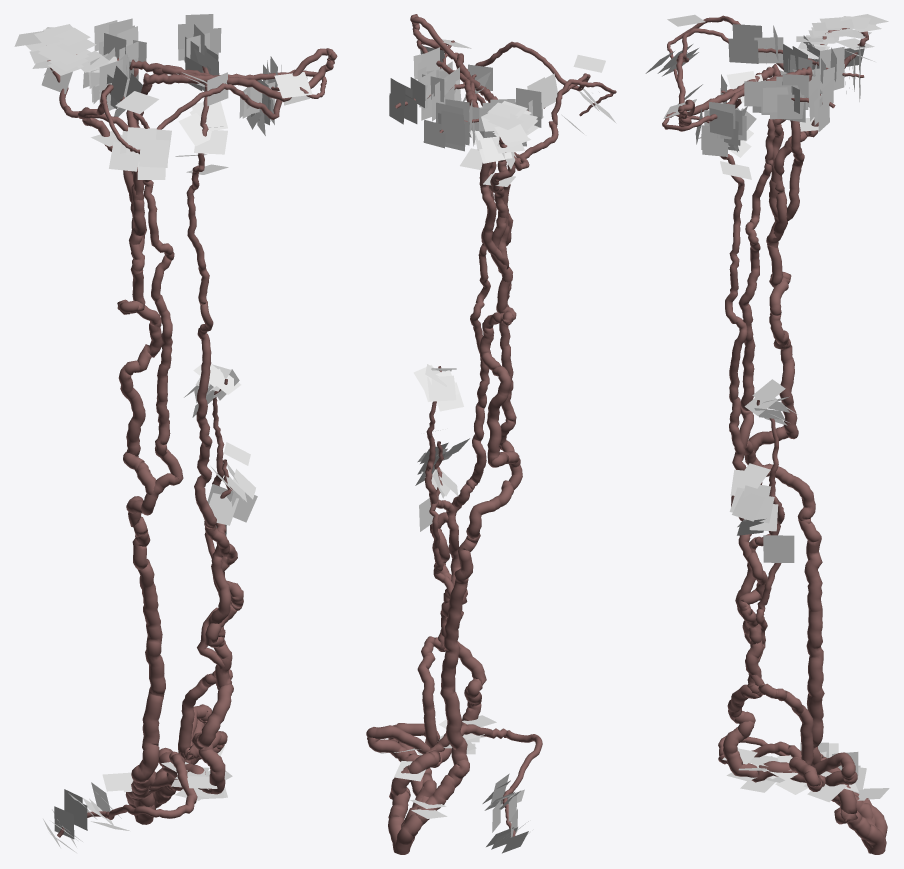
The model's file is big ivy 2.fbx.
The picture shows the model from 3 angles, left to right: view 1: azimuth 30°, elevation 25°; view 2: azimuth 150°, elevation 25°; view 3: azimuth 270°, elevation 25°; orthographic projection. The views are drawn at different scales.
Parts seen in each view (by area): view 1: IVY_Curve.010, IvyLeaf.014, IVY_Curve.009, IvyLeaf.013, IVY_Curve.011, IVY_Curve.001, IvyLeaf.015, IvyLeaf.001; view 2: IVY_Curve.010, IvyLeaf.014, IVY_Curve.009, IvyLeaf.013, IVY_Curve.011, IVY_Curve.001, IvyLeaf.001, IvyLeaf.015; view 3: IVY_Curve.010, IVY_Curve.009, IvyLeaf.014, IvyLeaf.013, IvyLeaf.015, IVY_Curve.011, IVY_Curve.001, IvyLeaf.001.
Part boxes in pixels (x1=…): IVY_Curve.010: x1=47, y1=48, x2=337, y2=824; IvyLeaf.014: x1=14, y1=18, x2=312, y2=792; IVY_Curve.009: x1=152, y1=66, x2=243, y2=817; IvyLeaf.013: x1=161, y1=14, x2=241, y2=800; IVY_Curve.011: x1=125, y1=459, x2=232, y2=822; IVY_Curve.001: x1=57, y1=704, x2=211, y2=837; IvyLeaf.015: x1=203, y1=442, x2=257, y2=756; IvyLeaf.001: x1=43, y1=782, x2=129, y2=852; IVY_Curve.010: x1=404, y1=14, x2=616, y2=851; IvyLeaf.014: x1=410, y1=39, x2=616, y2=818; IVY_Curve.009: x1=388, y1=80, x2=496, y2=853; IvyLeaf.013: x1=389, y1=67, x2=496, y2=781; IVY_Curve.011: x1=388, y1=441, x2=463, y2=854; IVY_Curve.001: x1=366, y1=724, x2=542, y2=836; IvyLeaf.001: x1=482, y1=773, x2=528, y2=853; IvyLeaf.015: x1=373, y1=430, x2=469, y2=753; IVY_Curve.010: x1=662, y1=15, x2=875, y2=853; IVY_Curve.009: x1=720, y1=95, x2=885, y2=854; IvyLeaf.014: x1=645, y1=14, x2=889, y2=800; IvyLeaf.013: x1=698, y1=71, x2=858, y2=794; IvyLeaf.015: x1=729, y1=463, x2=847, y2=802; IVY_Curve.011: x1=749, y1=482, x2=887, y2=851; IVY_Curve.001: x1=718, y1=735, x2=876, y2=853; IvyLeaf.001: x1=800, y1=742, x2=866, y2=789.
Bounding box in the file's own units: 75.54 × 263 × 74.11.
